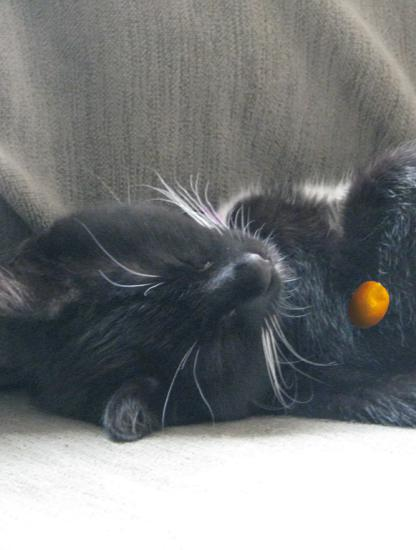Kumquats: (343, 280, 394, 331)
